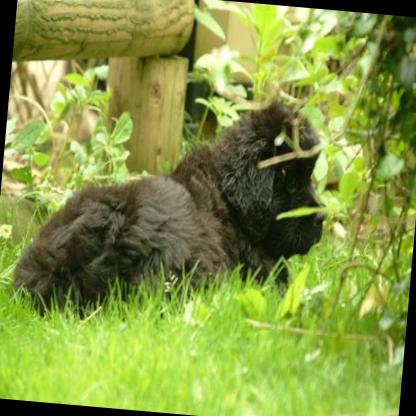Newfoundland: (9, 76, 332, 344)
